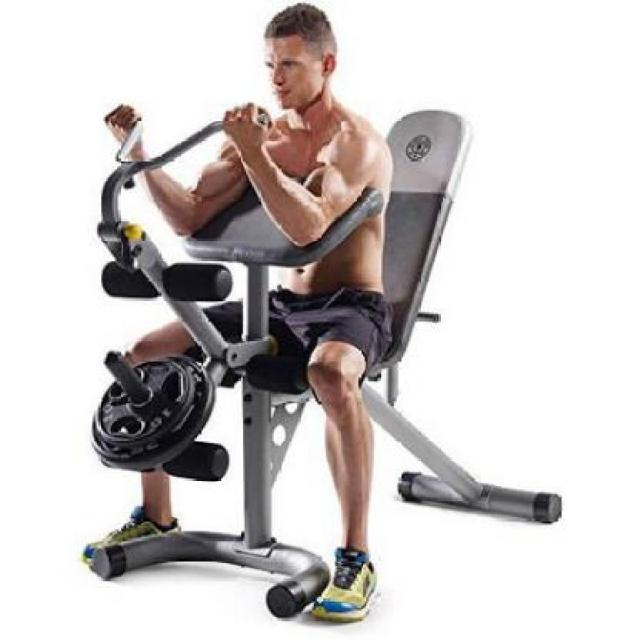arm curl machine: (96, 106, 410, 619)
